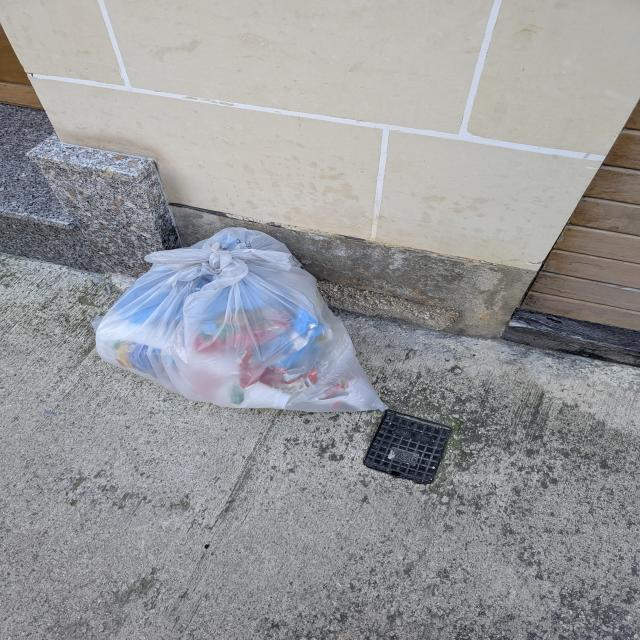Recyclable Material: (96, 227, 389, 412)
